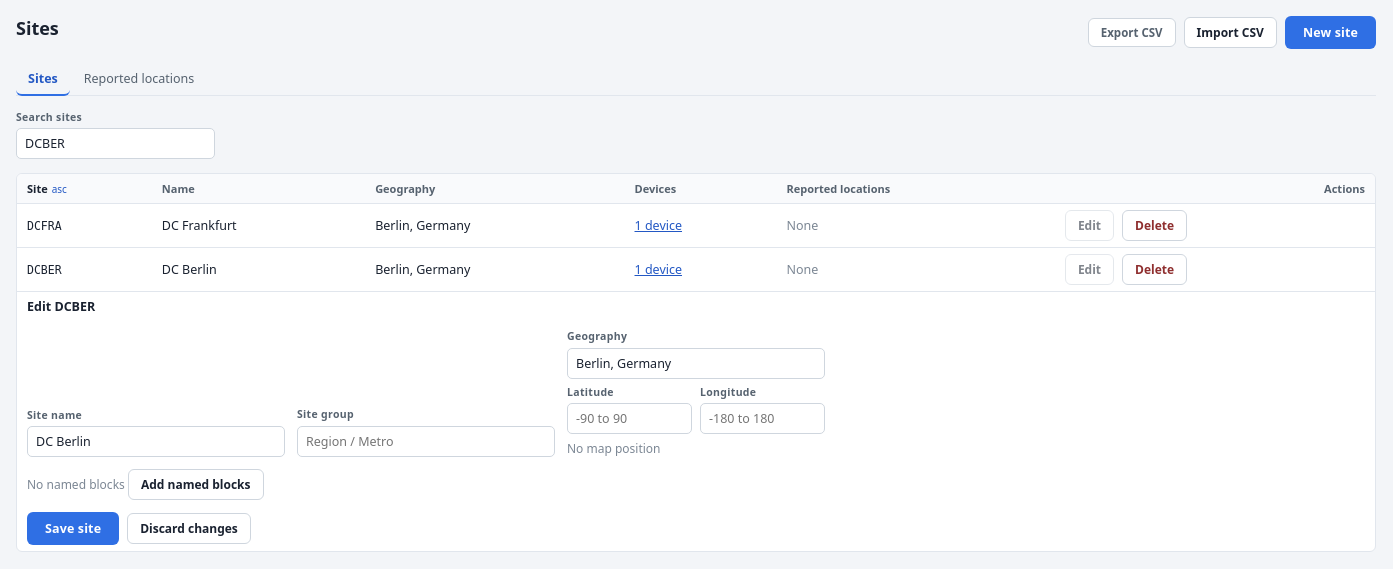
Scenario: site coordinates › a link with edit opens the editor of that site once, with the search set
This screenshot has width=1393, height=569.
Check: the heading "Edit DCBER" is shown, box [27,298,95,315]
Check: the search field labelled "Search sites" holds "DCBER", box [16,128,215,159]
Step 1. Click the button "Discard changes" → (189, 528), box [127,513,251,544]
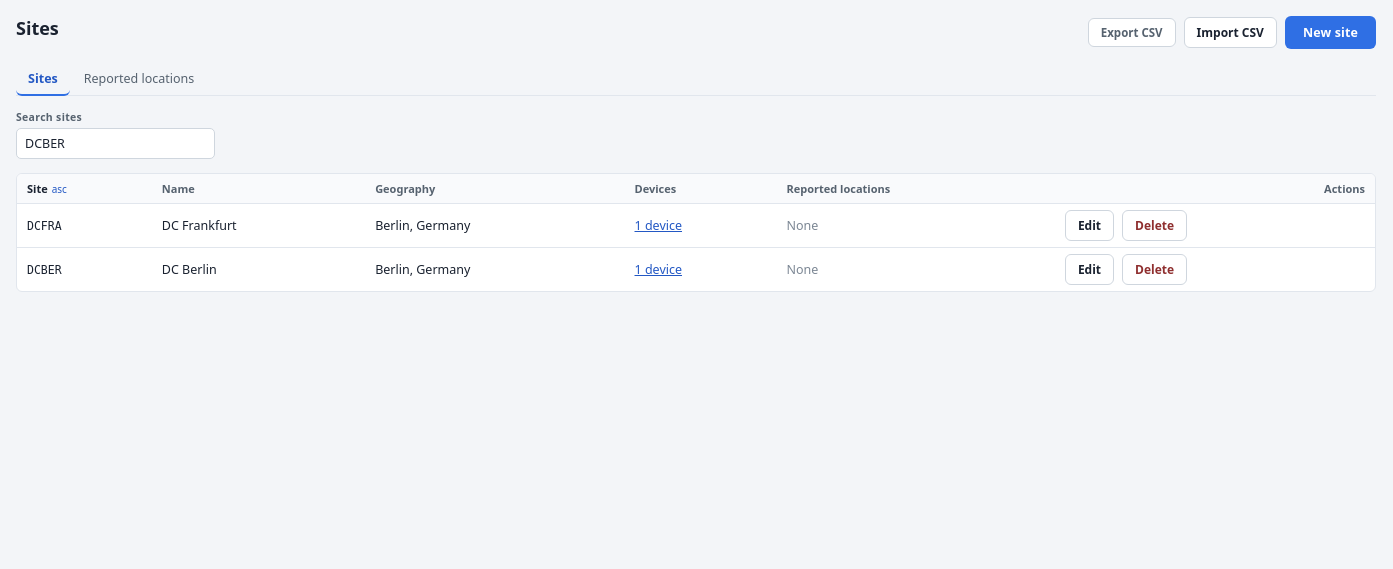
Check: the heading "Edit DCBER" is gone
